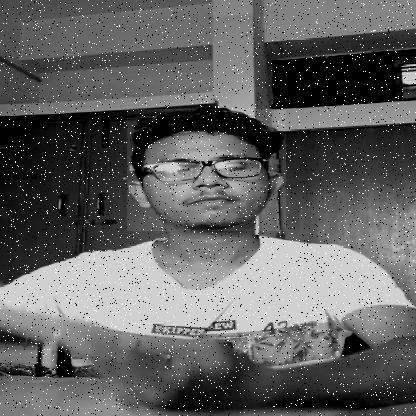Normal: (127, 109, 286, 231)
